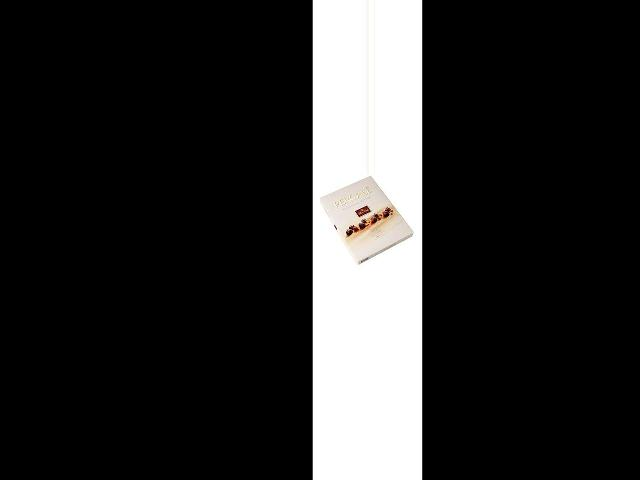chocolate: (319, 177, 420, 266)
